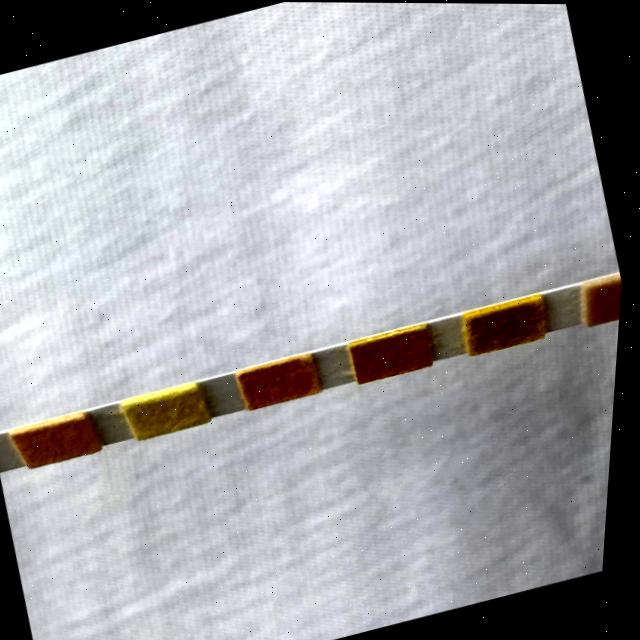Blood: (354, 328, 435, 382)
Ketone: (589, 278, 626, 322)
Protein: (136, 388, 209, 438)
SpGravity: (471, 300, 546, 352)
Urobilinogen: (25, 417, 96, 467)
pH: (242, 355, 321, 408)
